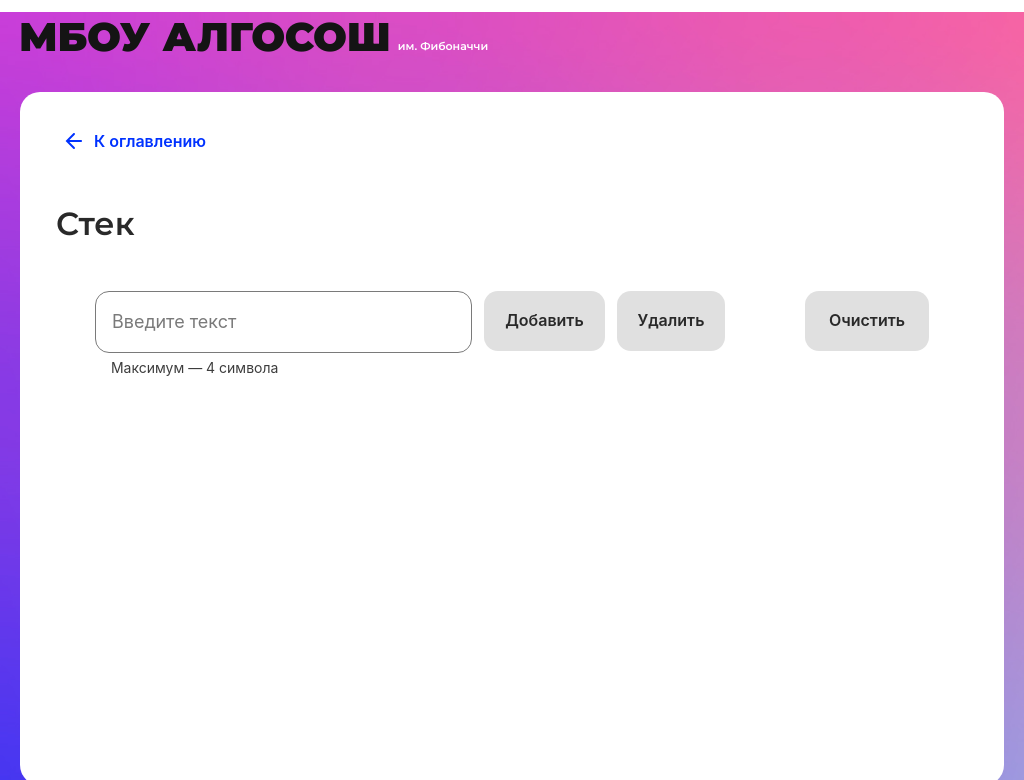
Test: стэк › проверка блокировки кнопки при пустом инпуте
Type "key" into the field with test id "input-stack" at (284, 322), box [95,291,472,353]
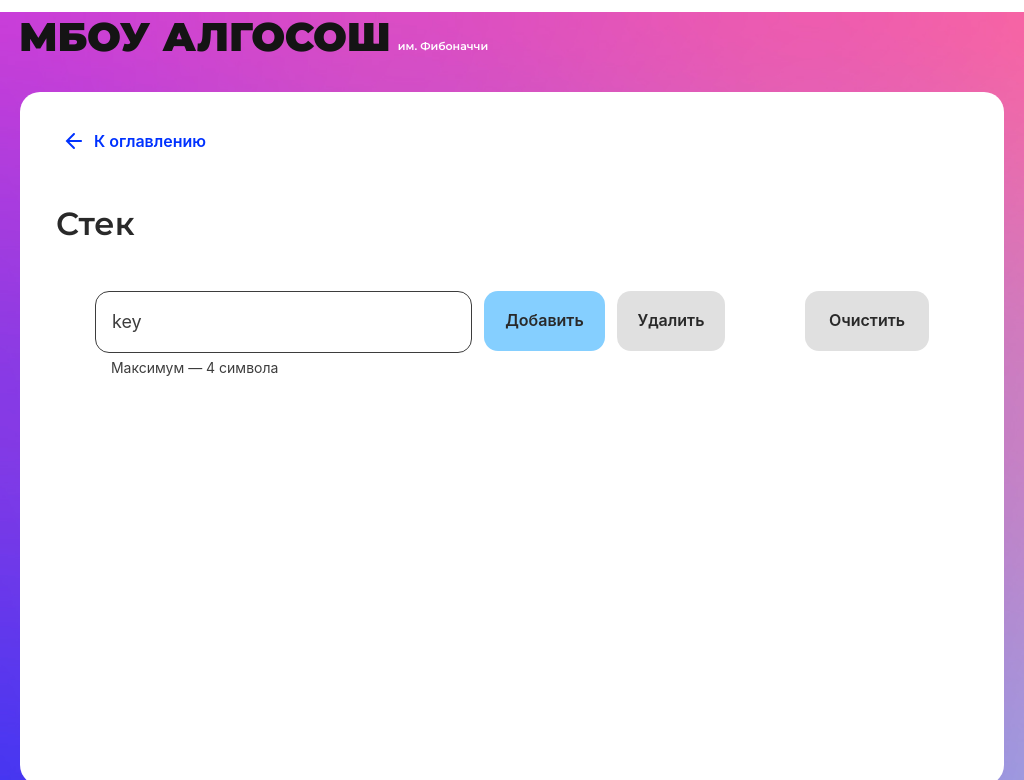
Clear the field with test id "input-stack" at (284, 322), box [95,291,472,353]
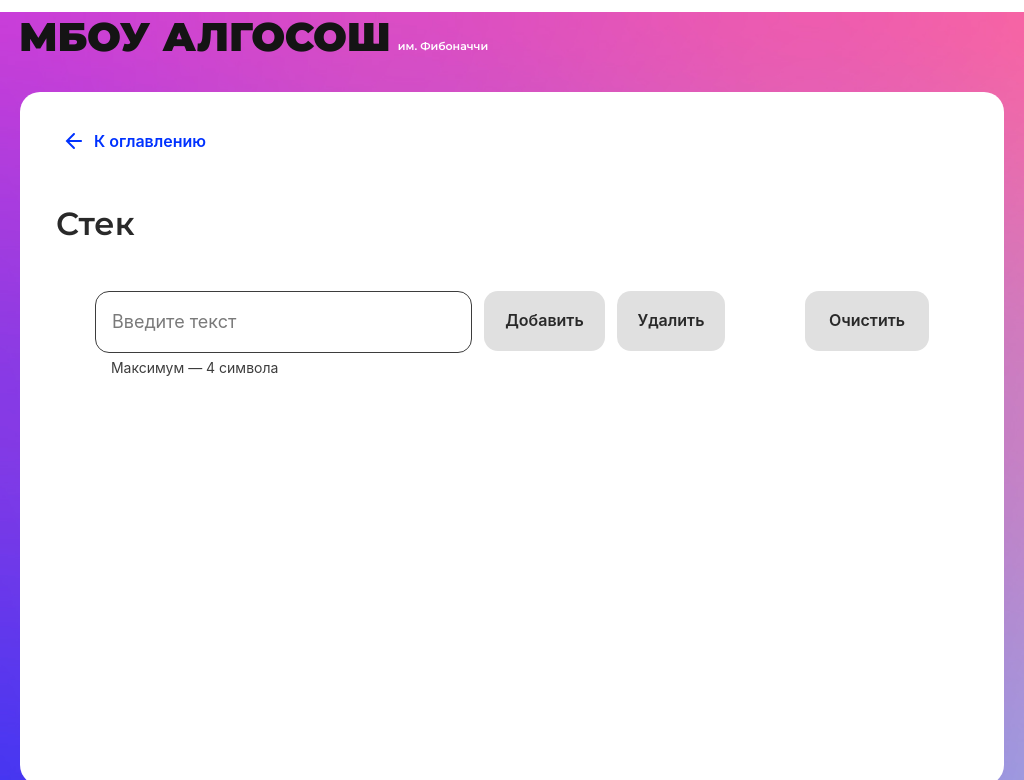
Now the button with test id "button-stack-add" is disabled, box [484,291,605,351]
